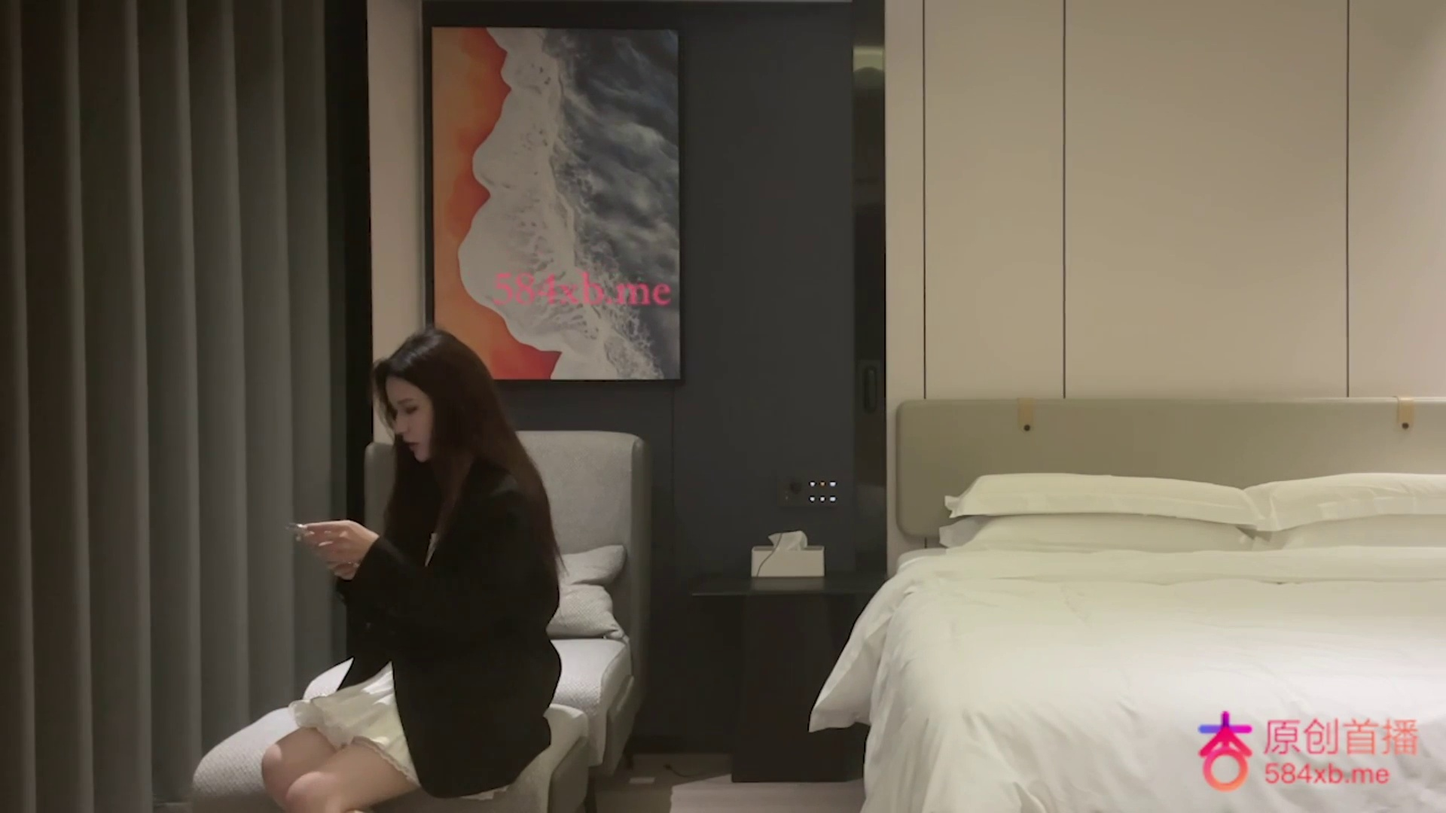sit: (253, 325, 564, 811)
